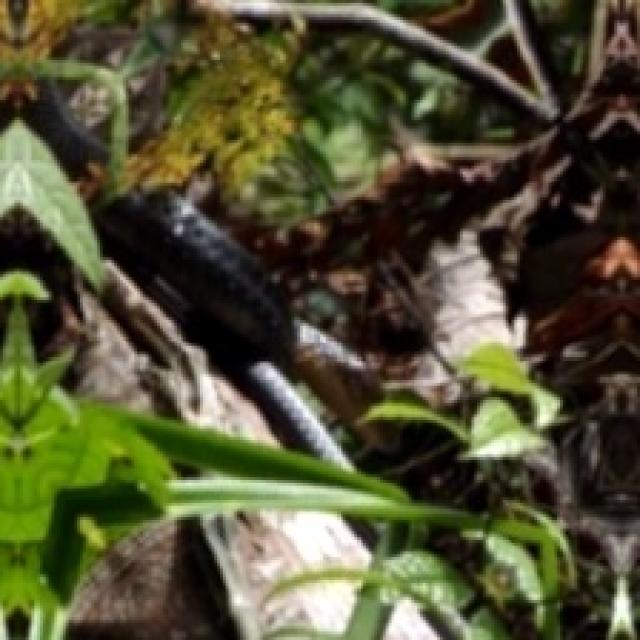king cobra: (92, 191, 404, 466), (24, 88, 106, 171)
